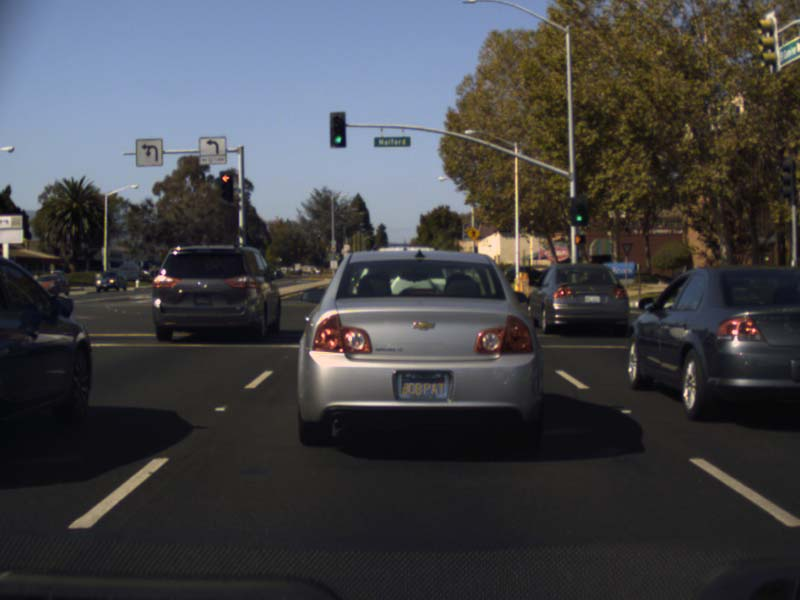Green: (329, 111, 345, 148), (571, 196, 587, 223)
Red: (220, 170, 232, 203)
